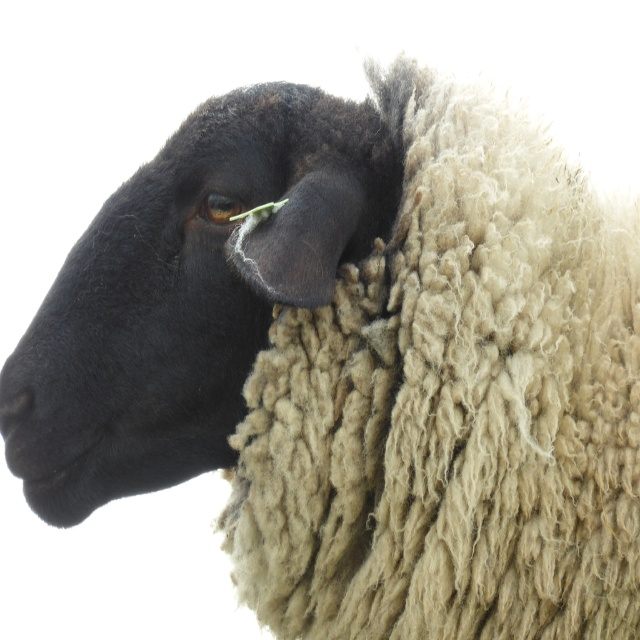Sheep: (0, 49, 640, 639)
